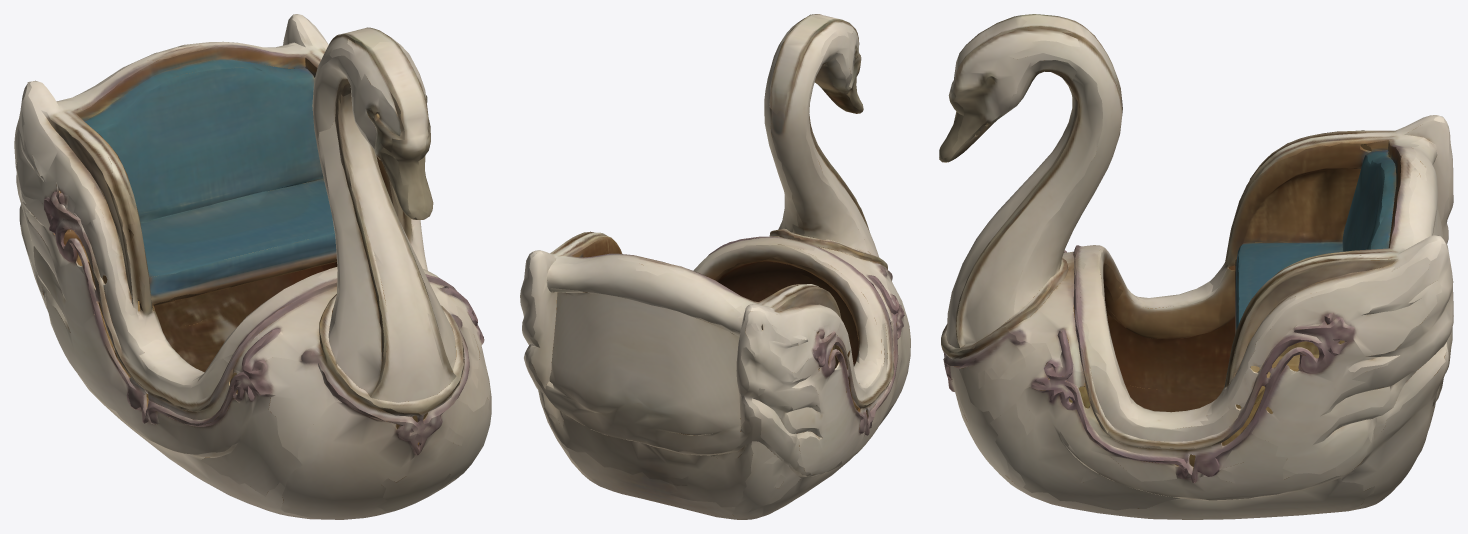
File: unified--carousel-swan.glb
3 renders of one model, left to right at view 1: azimuth 30°, elevation 25°; view 2: azimuth 150°, elevation 25°; view 3: azimuth 270°, elevation 25°, orthographic. The views are drawn at different scales.
Visible parts, largest first — view 1: carousel-swan-1; view 2: carousel-swan-1; view 3: carousel-swan-1.
Part boxes in pixels (left/top/right/bottom): carousel-swan-1: left=14, top=14, right=491, bottom=519; carousel-swan-1: left=520, top=14, right=910, bottom=519; carousel-swan-1: left=939, top=14, right=1453, bottom=519.
Bounding box in the file's own units: 1.31 × 1.8 × 1.8.
1 material, 1 textured.
